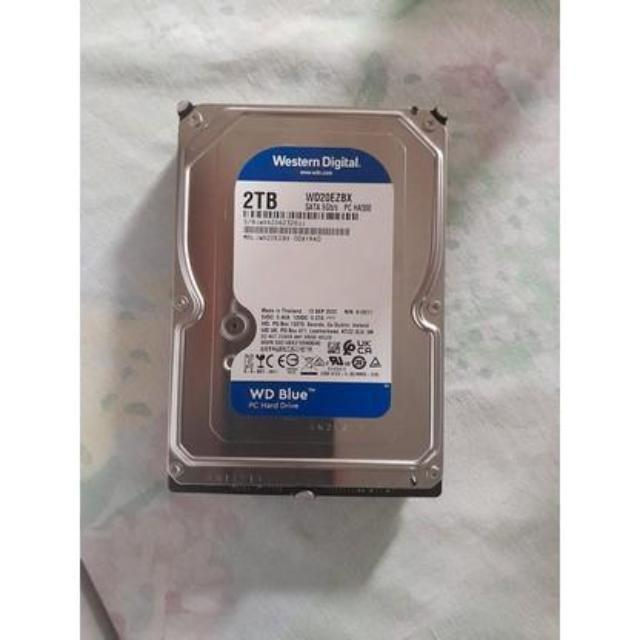DISK: (170, 108, 447, 490)
